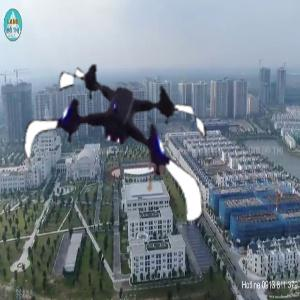drone: (20, 39, 212, 231)
